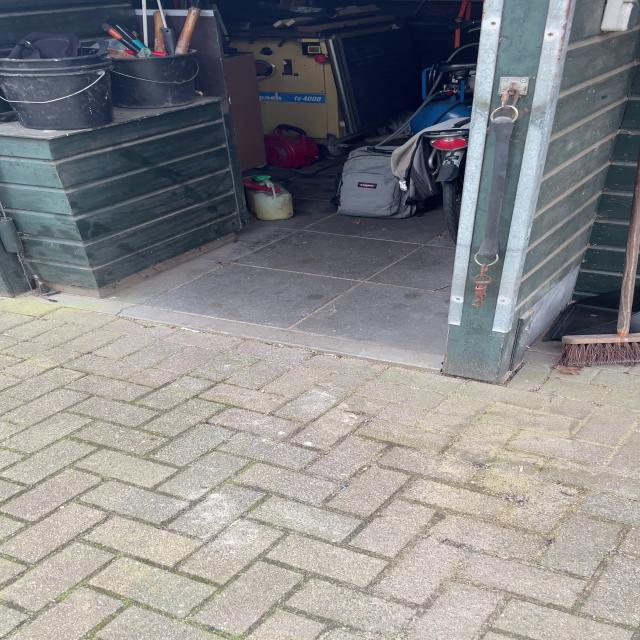backpack: (327, 144, 423, 224)
